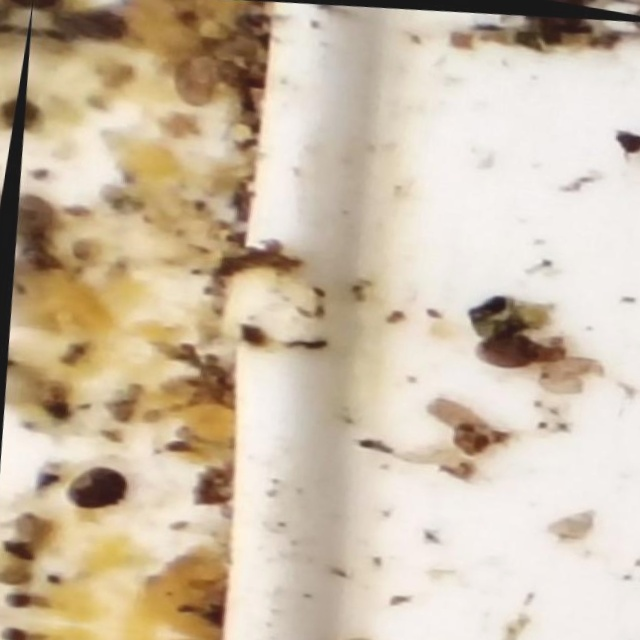varroa: (453, 322, 543, 376), (56, 451, 133, 507)
